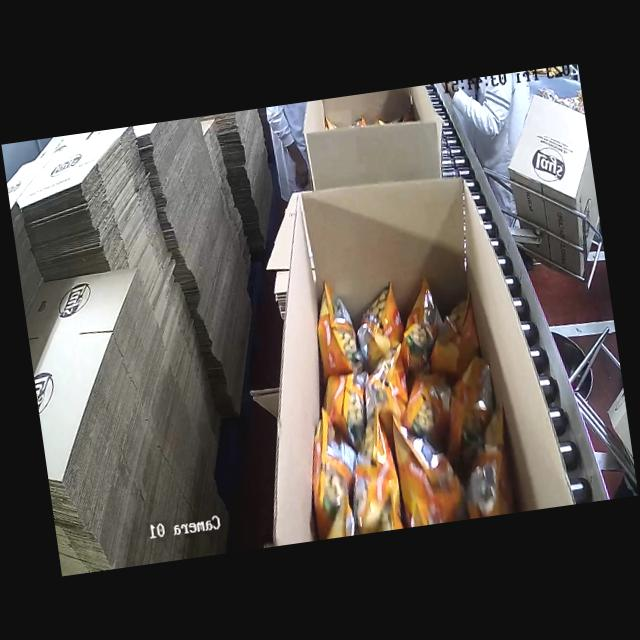cheese: (290, 298, 504, 540)
